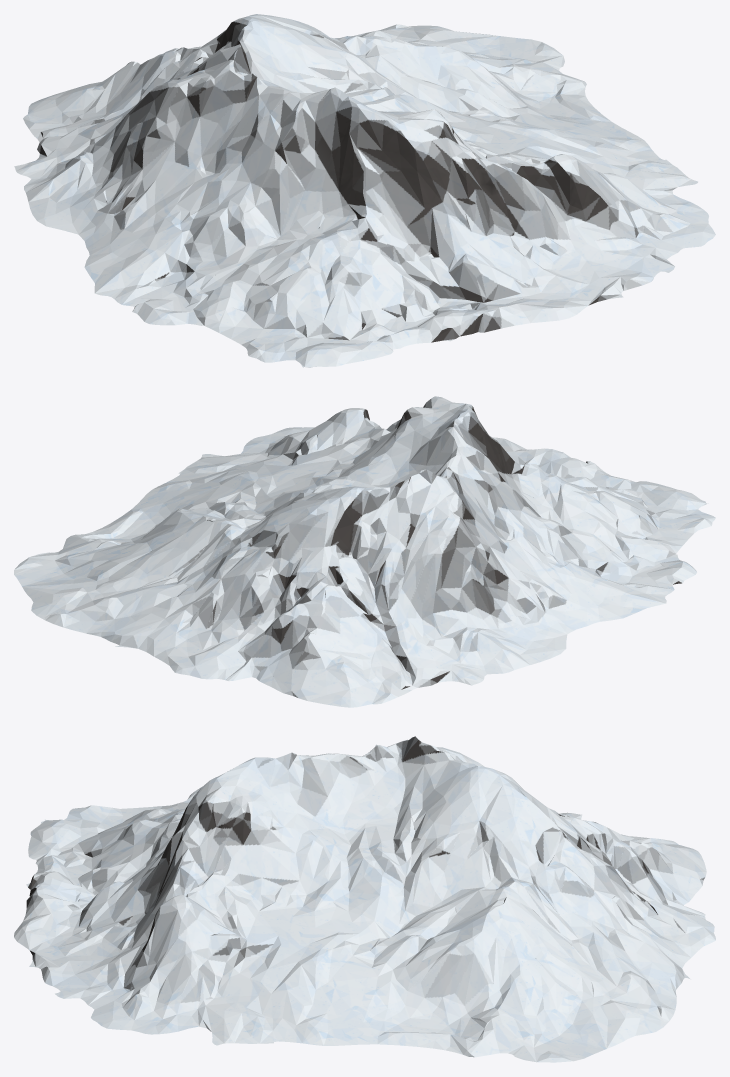
The model's file is mountain_02.gltf.
The picture shows the model from 3 angles, top to bottom: view 1: azimuth 30°, elevation 25°; view 2: azimuth 150°, elevation 25°; view 3: azimuth 270°, elevation 25°; orthographic projection. The views are drawn at different scales.
Parts seen in each view (by area): view 1: mountain_02; view 2: mountain_02; view 3: mountain_02.
Part boxes in pixels (left/top/right/bottom): mountain_02: left=14, top=14, right=715, bottom=367; mountain_02: left=14, top=396, right=715, bottom=707; mountain_02: left=14, top=736, right=715, bottom=1062.
Bounding box in the file's own units: 20.01 × 4.76 × 21.14.
Materials: 1 (1 with a texture image).
